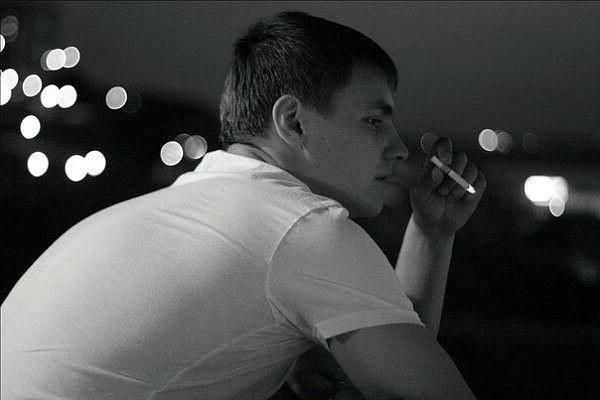cigarette: (430, 156, 476, 194)
